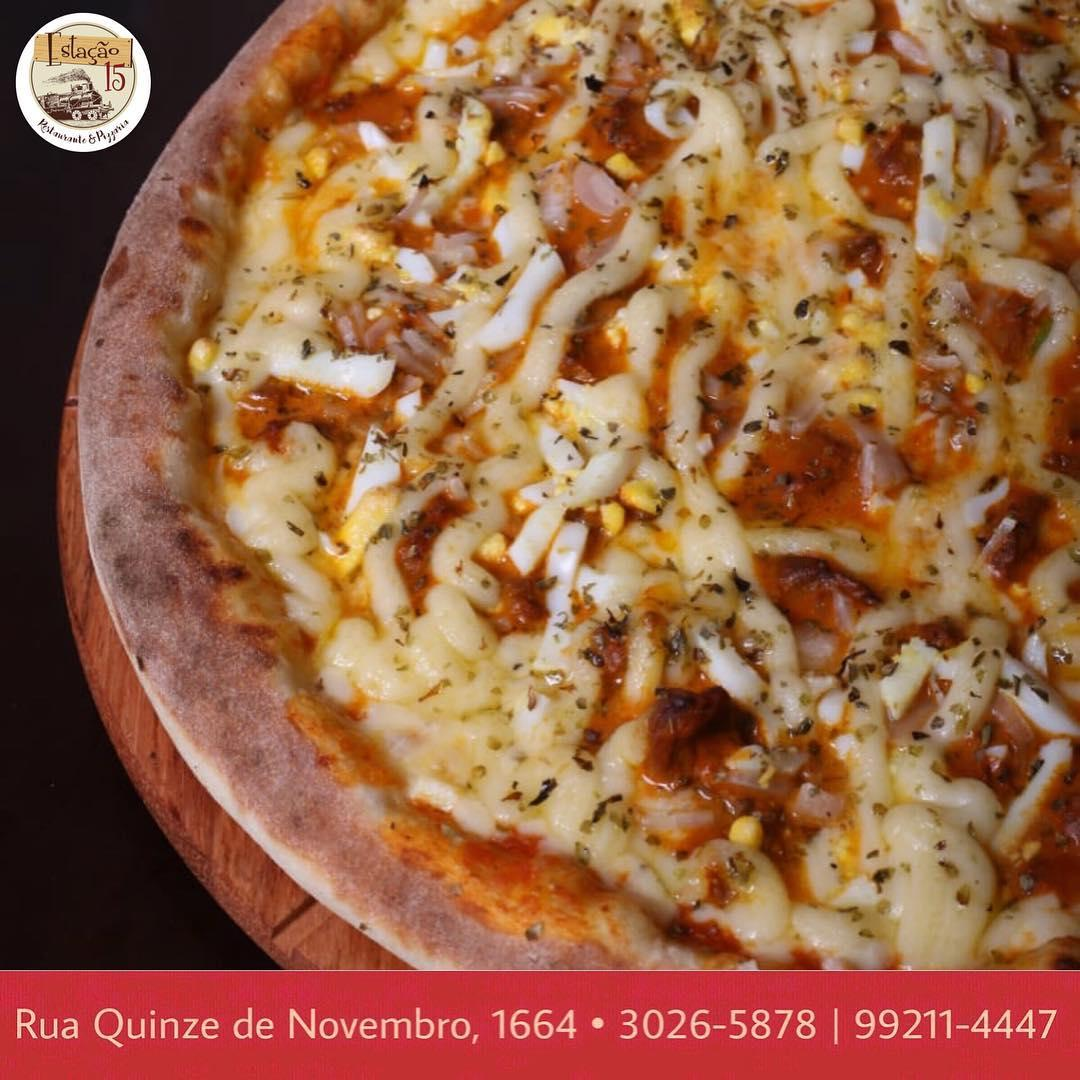Cheese: (339, 589, 602, 820), (841, 665, 1002, 956), (521, 377, 738, 585), (905, 0, 1026, 257), (413, 241, 566, 424), (673, 95, 836, 266), (239, 433, 344, 621), (639, 269, 844, 353), (759, 5, 894, 91)
Corn: (619, 481, 666, 525), (723, 813, 772, 850), (299, 143, 344, 181), (609, 145, 646, 181), (835, 117, 873, 149), (545, 401, 580, 434), (593, 501, 625, 536), (841, 305, 874, 337), (837, 389, 877, 414), (473, 537, 506, 566), (185, 337, 213, 370), (531, 19, 568, 43), (845, 351, 872, 381), (477, 141, 506, 166), (597, 319, 620, 349), (481, 189, 506, 213), (969, 369, 984, 404), (397, 269, 417, 289)
Ham: (649, 685, 750, 789), (757, 555, 872, 637), (739, 417, 836, 509), (949, 685, 1026, 785), (857, 127, 926, 225), (585, 91, 669, 170)
Pizza: (83, 0, 1080, 971)
